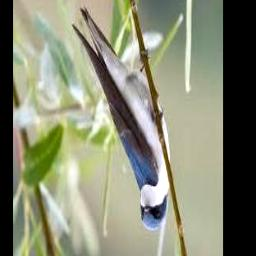Swallow: (72, 7, 171, 231)
